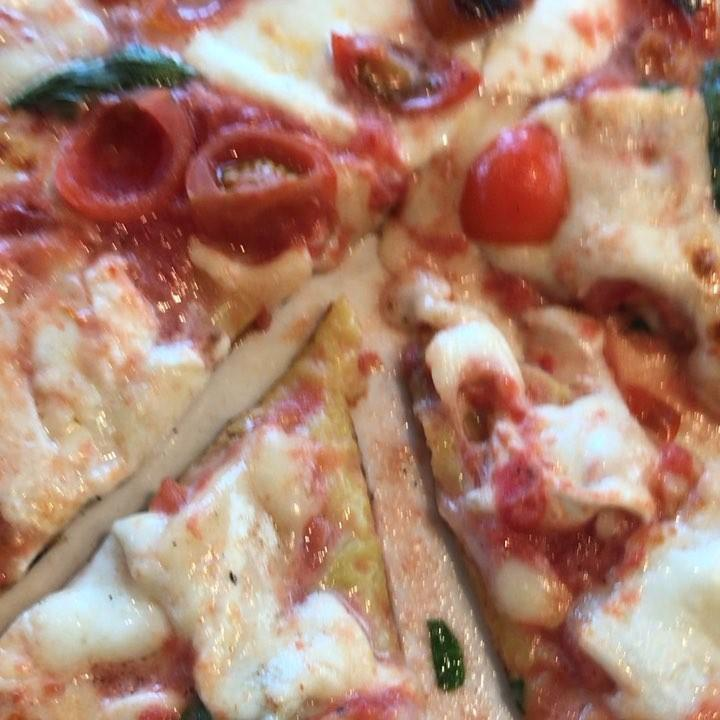Basil: (21, 43, 181, 106)
Cheese: (133, 491, 395, 695), (13, 281, 187, 500), (566, 96, 719, 302), (598, 546, 720, 720), (506, 393, 647, 524)
Pizza: (3, 3, 720, 720)
Tomatoes: (61, 96, 191, 225), (323, 31, 482, 122), (198, 131, 334, 235), (456, 123, 562, 245), (423, 1, 532, 44)
